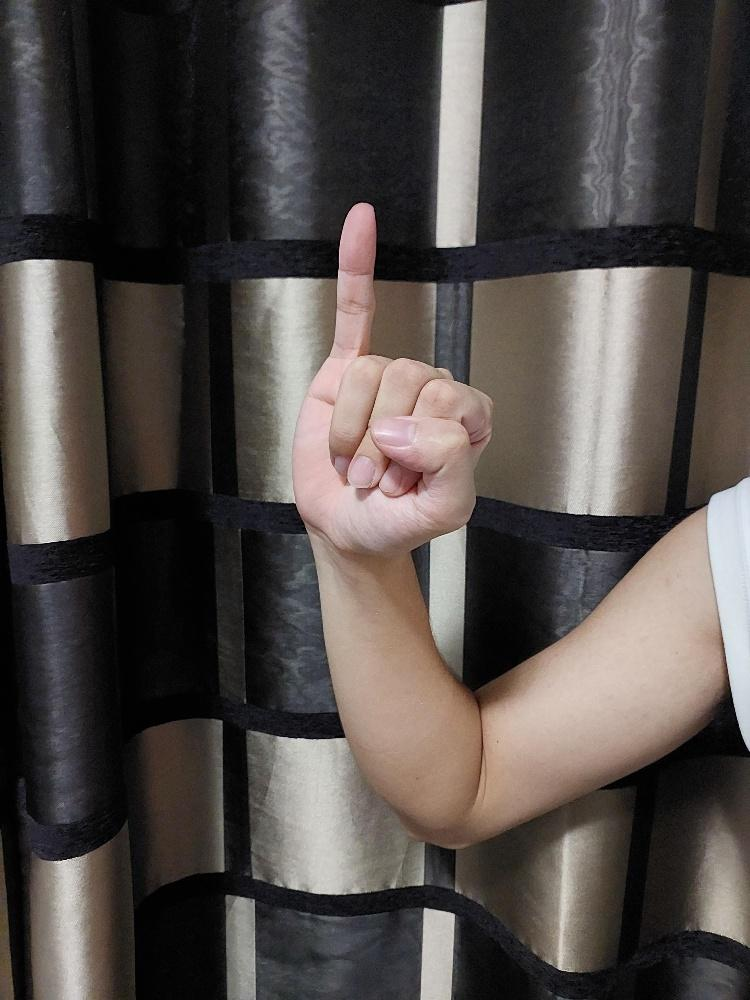i: (286, 200, 495, 560)
